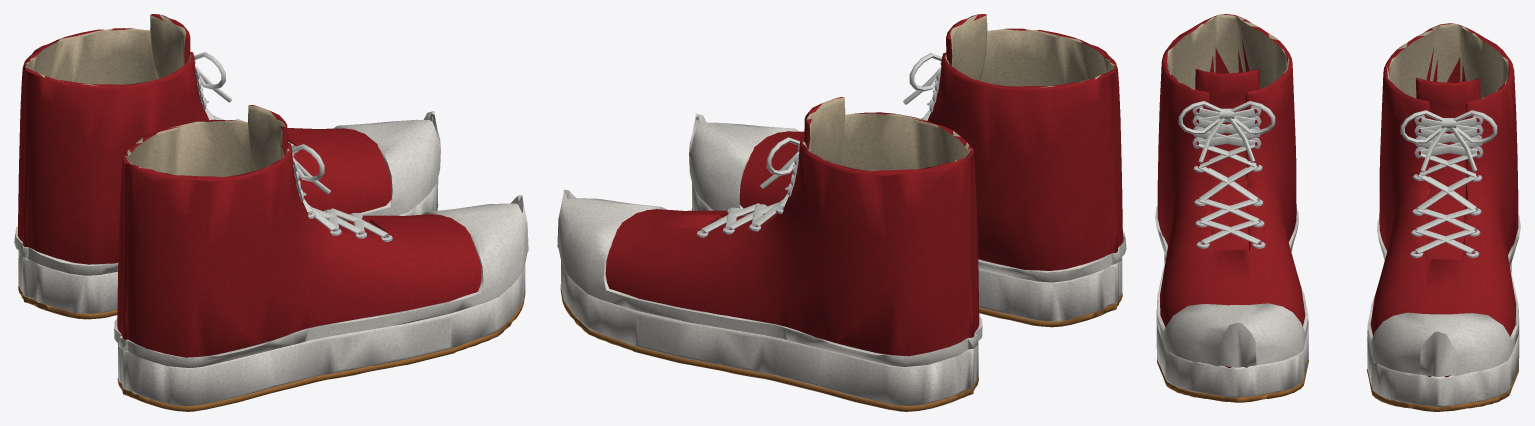
File: sneaker.glb
3 renders of one model, left to right at view 1: azimuth 30°, elevation 25°; view 2: azimuth 150°, elevation 25°; view 3: azimuth 270°, elevation 25°, orthographic. The views are drawn at different scales.
Parts seen in each view (by area): view 1: Upper, right, Upper, left, Foxing, right, Toe cap and foxing, right, Toe cap and foxing, left, Foxing, left, Outsole, right, Tongue, right, Laces and eyelets, right, Tongue, left, Laces and eyelets, left, Outsole, left; view 2: Upper, left, Upper, right, Foxing, left, Toe cap and foxing, left, Toe cap and foxing, right, Foxing, right, Outsole, left, Tongue, left, Laces and eyelets, left, Tongue, right, Outsole, right, Laces and eyelets, right; view 3: Upper, left, Upper, right, Toe cap and foxing, right, Toe cap and foxing, left, Laces and eyelets, right, Laces and eyelets, left, Foxing, right, Foxing, left, Tongue, right, Tongue, left, Outsole, right, Outsole, left.
Part boxes in pixels (<box>): Upper, right: <box>117,120,481,357</box>; Upper, left: <box>17,28,391,264</box>; Foxing, right: <box>118,264,525,406</box>; Toe cap and foxing, right: <box>114,195,528,367</box>; Toe cap and foxing, left: <box>14,111,440,275</box>; Foxing, left: <box>18,178,438,313</box>; Outsole, right: <box>117,291,525,411</box>; Tongue, right: <box>248,105,377,232</box>; Laces and eyelets, right: <box>292,144,392,241</box>; Tongue, left: <box>150,14,190,78</box>; Laces and eyelets, left: <box>194,52,298,153</box>; Outsole, left: <box>18,204,438,319</box>; Upper, left: <box>605,112,979,356</box>; Upper, right: <box>739,28,1122,270</box>; Foxing, left: <box>561,261,978,405</box>; Toe cap and foxing, left: <box>557,189,982,366</box>; Toe cap and foxing, right: <box>689,113,1126,282</box>; Foxing, right: <box>692,183,1122,321</box>; Outsole, left: <box>560,285,978,411</box>; Tongue, left: <box>711,97,845,228</box>; Laces and eyelets, left: <box>697,137,800,237</box>; Tongue, right: <box>946,14,987,80</box>; Outsole, right: <box>691,208,1122,327</box>; Laces and eyelets, right: <box>903,53,941,120</box>; Upper, left: <box>1370,23,1518,377</box>; Upper, right: <box>1157,14,1305,367</box>; Toe cap and foxing, right: <box>1155,205,1308,367</box>; Toe cap and foxing, left: <box>1367,215,1520,376</box>; Laces and eyelets, right: <box>1178,101,1275,248</box>; Laces and eyelets, left: <box>1400,110,1497,257</box>; Foxing, right: <box>1156,254,1308,397</box>; Foxing, left: <box>1367,263,1519,407</box>; Tongue, right: <box>1195,68,1259,250</box>; Tongue, left: <box>1416,78,1480,260</box>; Outsole, right: <box>1157,357,1308,402</box>; Outsole, left: <box>1367,367,1518,411</box>.
Size of the model in its own units: 0.3159 by 0.1734 by 0.2505.
Materials: 6 (6 with a texture image).
